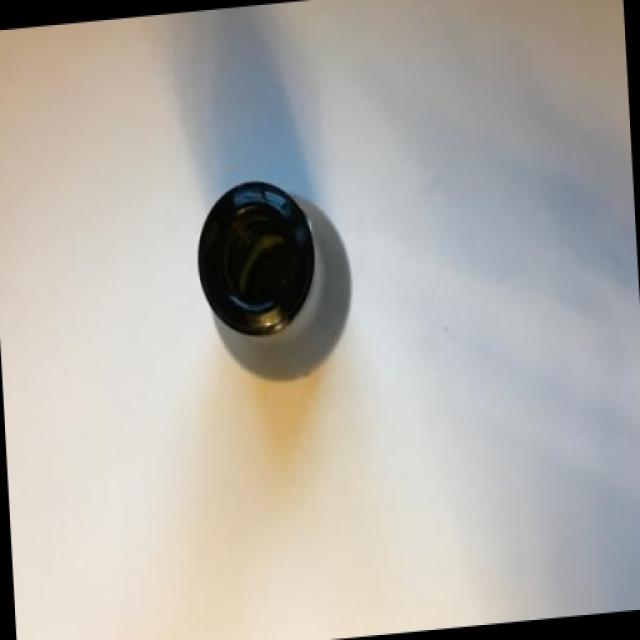vidrio: (91, 87, 408, 490)
